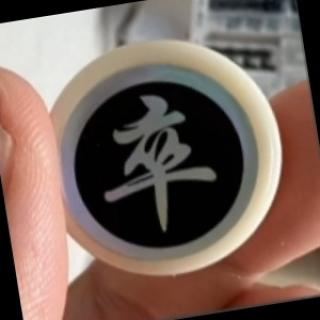qizi: (54, 42, 276, 272)
